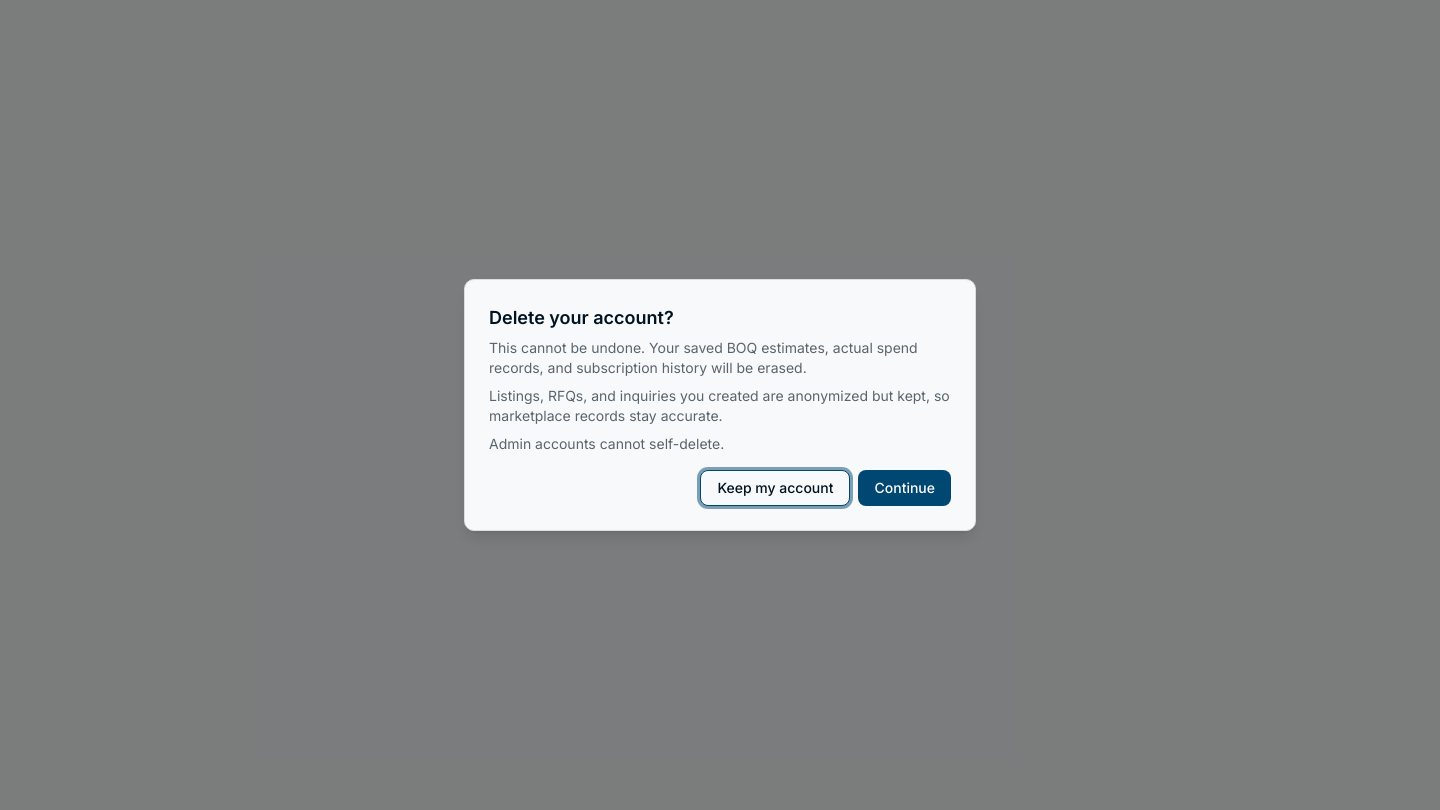
Scenario: DeleteAccountDialog (DOM) › the Delete button stays disabled until DELETE is typed (case-insensitive)
This screenshot has width=1440, height=810.
Click the button "Continue" at (905, 488), box left=858, top=470, right=951, bottom=506
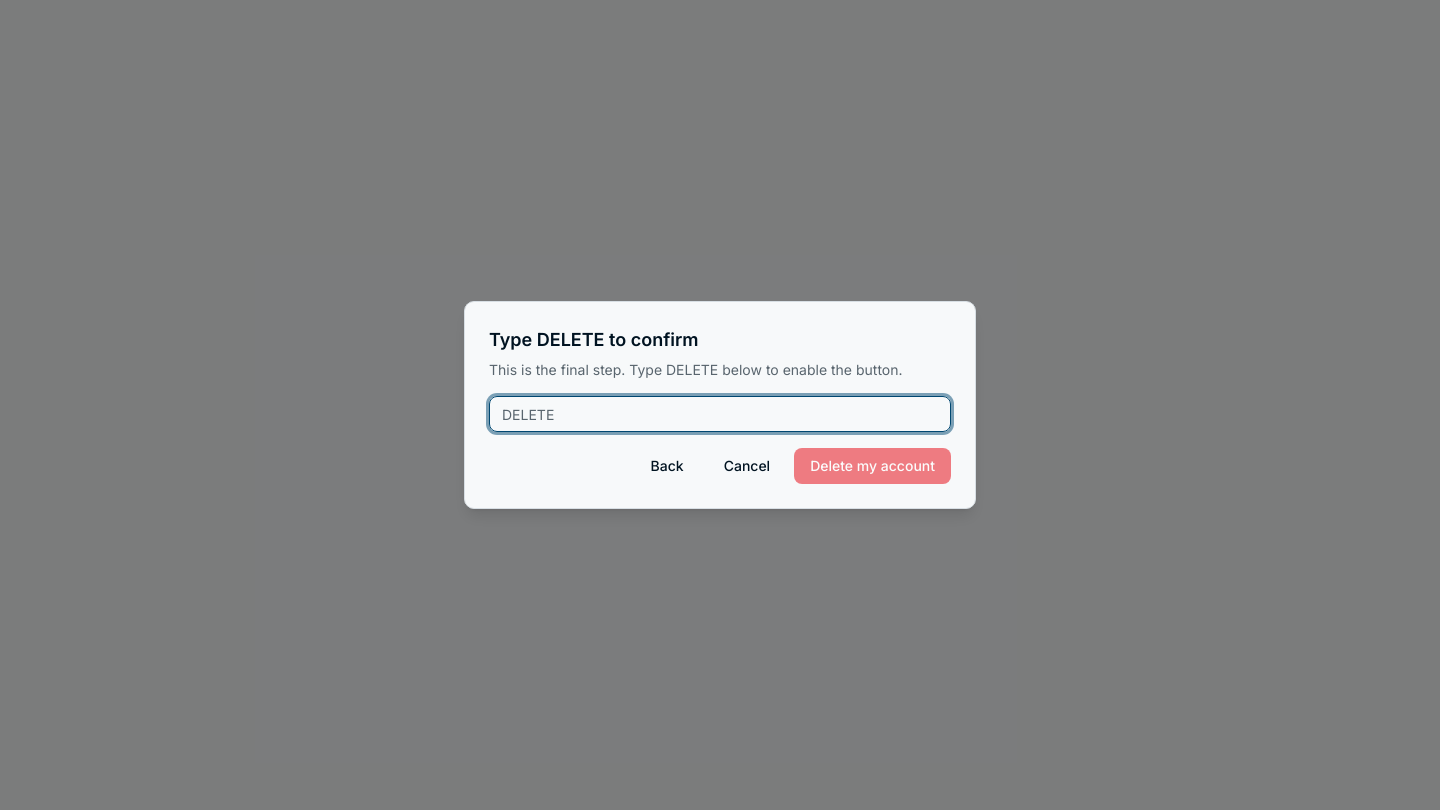
Check: the heading "Type DELETE to confirm" is shown, box left=489, top=326, right=698, bottom=354
Check: the button "Delete my account" is disabled, box left=794, top=448, right=951, bottom=484
Type "REMOVE" into the field with placeholder "DELETE" at (720, 414), box left=489, top=396, right=951, bottom=432
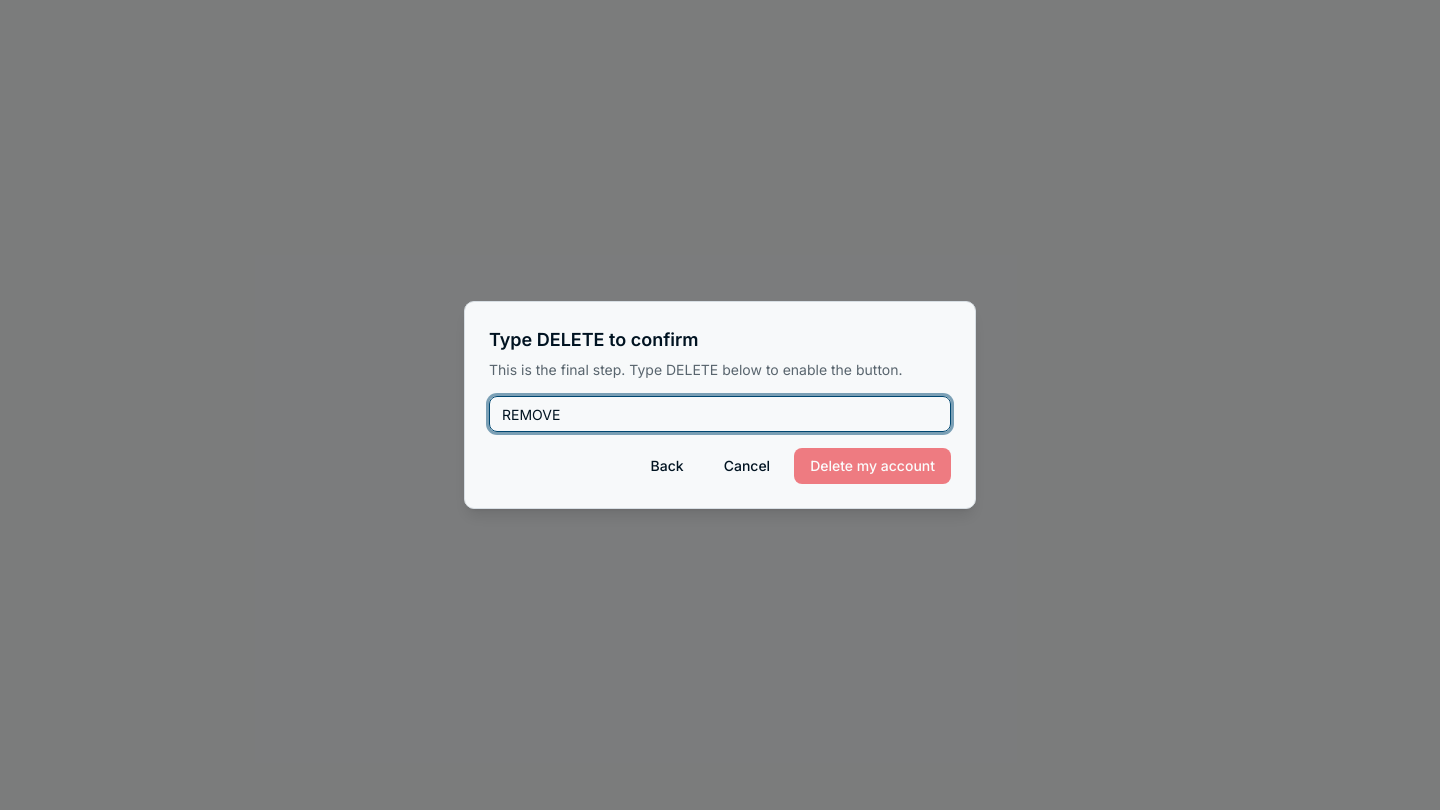
Check: the button "Delete my account" is disabled, box left=794, top=448, right=951, bottom=484
Replace the text in the field with placeholder "DELETE" with "  delete  " at (720, 414), box left=489, top=396, right=951, bottom=432
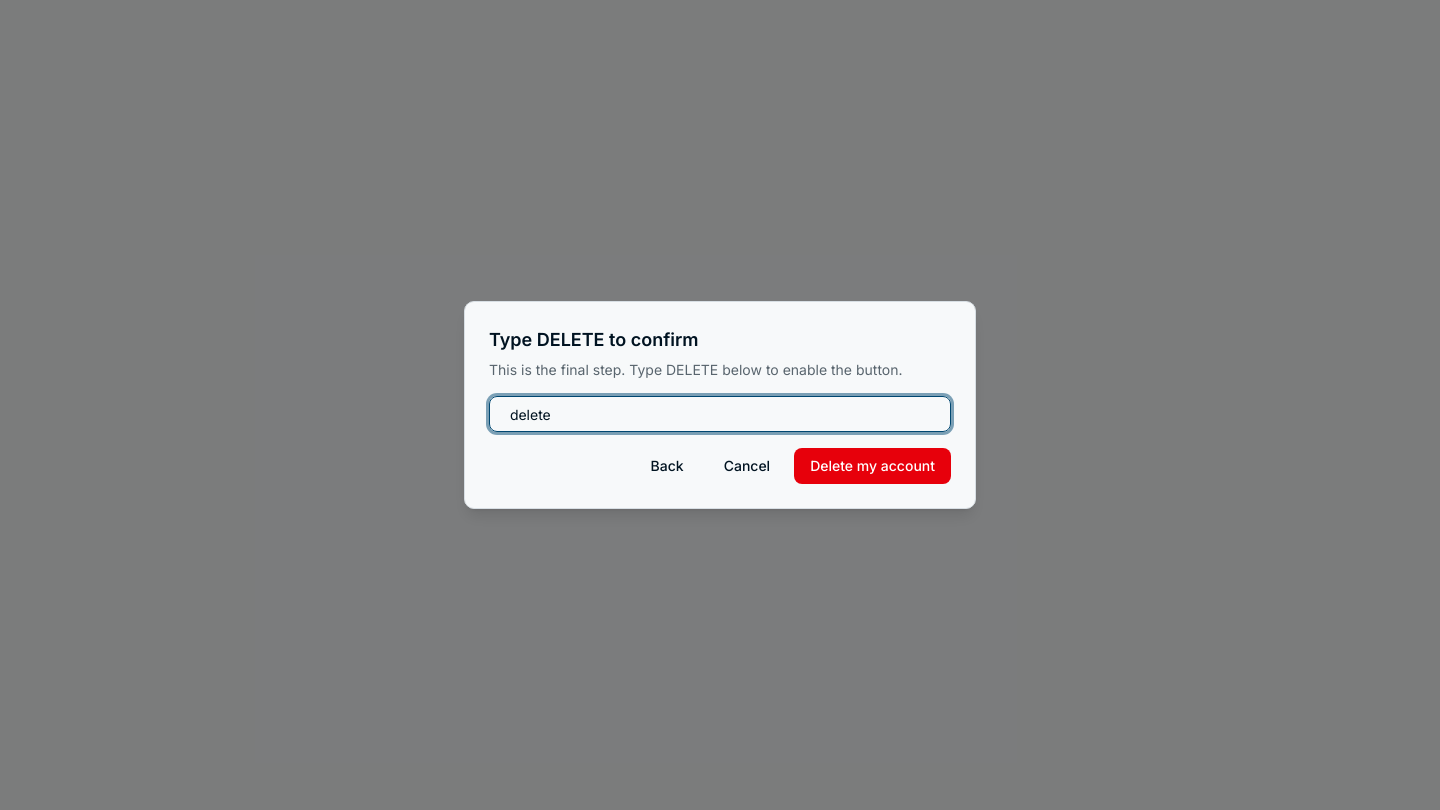
Check: the button "Delete my account" is enabled, box left=794, top=448, right=951, bottom=484
